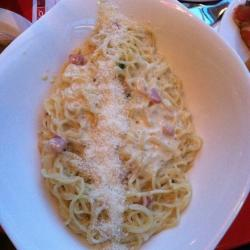carbonara: (40, 18, 196, 249)
